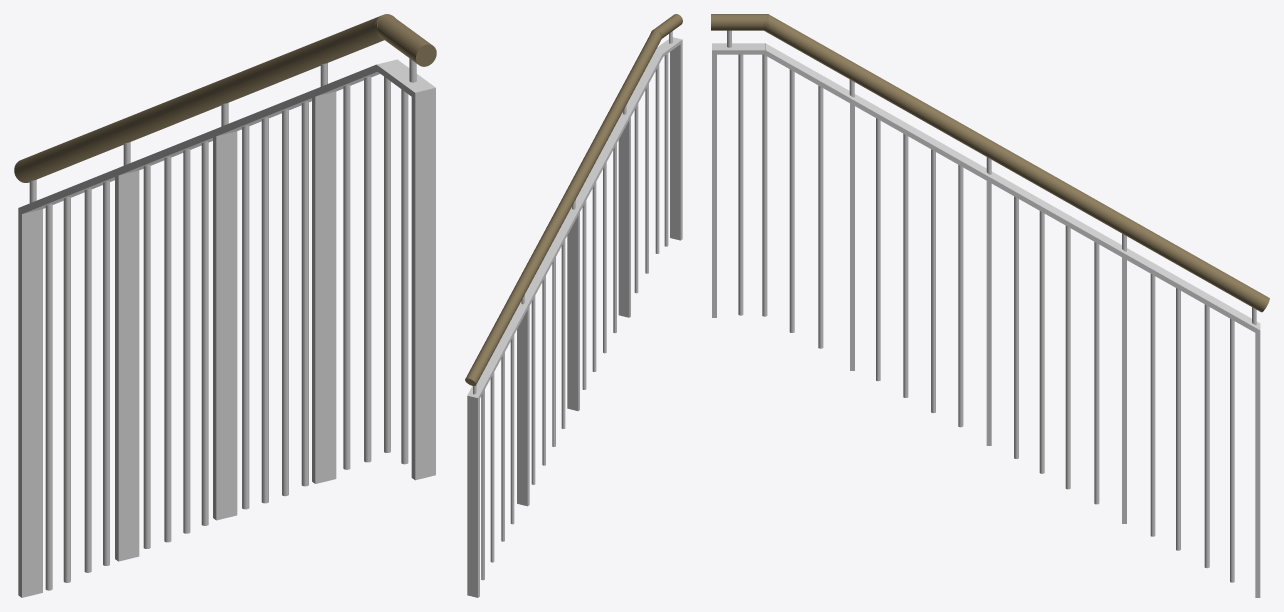
File: Gelænder.fbx
3 views of the same model, side by side, from view 1: azimuth 30°, elevation 25°; view 2: azimuth 150°, elevation 25°; view 3: azimuth 270°, elevation 25° (orthographic). The views are drawn at different scales.
Parts seen in each view (by area): view 1: Cube.003, Cube.002, Cube.005, Cube.004, Cube.006, Cylinder, Cube.001, Cylinder.022, Cylinder.009, Cylinder.017, Cylinder.013, Cylinder.021 (+13 smaller); view 2: Cylinder, Cube.001, Cube.006, Cube.002, Cube.005, Cube.003, Cube.004, Cylinder.007, Cylinder.021, Cylinder.013, Cylinder.019, Cylinder.008 (+12 smaller); view 3: Cylinder, Cube.001, Cube.006, Cube.004, Cylinder.012, Cylinder.021, Cylinder.017, Cylinder.009, Cylinder.010, Cylinder.019, Cylinder.016, Cylinder.008 (+12 smaller).
Part boxes in pixels (left/top/right/bottom): Cube.003: left=312, top=91, right=336, bottom=483; Cube.002: left=411, top=87, right=435, bottom=480; Cube.005: left=115, top=170, right=139, bottom=561; Cube.004: left=213, top=131, right=237, bottom=520; Cube.006: left=18, top=208, right=42, bottom=597; Cylinder: left=14, top=14, right=394, bottom=182; Cube.001: left=18, top=64, right=379, bottom=214; Cylinder.022: left=45, top=204, right=52, bottom=590; Cylinder.009: left=364, top=76, right=371, bottom=462; Cylinder.017: left=164, top=156, right=171, bottom=542; Cylinder.013: left=261, top=117, right=268, bottom=503; Cylinder.021: left=63, top=196, right=70, bottom=582; Cylinder: left=465, top=29, right=662, bottom=385; Cube.001: left=467, top=52, right=662, bottom=399; Cube.006: left=467, top=395, right=479, bottom=597; Cube.002: left=670, top=39, right=682, bottom=240; Cube.005: left=517, top=306, right=529, bottom=506; Cube.003: left=618, top=117, right=630, bottom=317; Cube.004: left=567, top=211, right=579, bottom=410; Cylinder.007: left=664, top=53, right=668, bottom=246; Cylinder.021: left=490, top=372, right=494, bottom=562; Cylinder.013: left=592, top=182, right=596, bottom=371; Cylinder.019: left=510, top=335, right=514, bottom=524; Cylinder.008: left=655, top=64, right=659, bottom=253; Cylinder: left=764, top=14, right=1269, bottom=312; Cube.001: left=763, top=43, right=1259, bottom=332; Cube.006: left=1255, top=323, right=1260, bottom=597; Cube.004: left=986, top=178, right=991, bottom=445; Cylinder.012: left=903, top=133, right=908, bottom=397; Cylinder.021: left=1204, top=304, right=1209, bottom=568; Cylinder.017: left=1065, top=226, right=1070, bottom=489; Cylinder.009: left=789, top=69, right=794, bottom=332; Cylinder.010: left=818, top=85, right=823, bottom=348; Cylinder.019: left=1150, top=274, right=1155, bottom=536; Cylinder.016: left=1039, top=211, right=1044, bottom=473; Cylinder.008: left=762, top=54, right=767, bottom=316.
Size of the model in its own units: 48.8 by 1872 by 1636.
